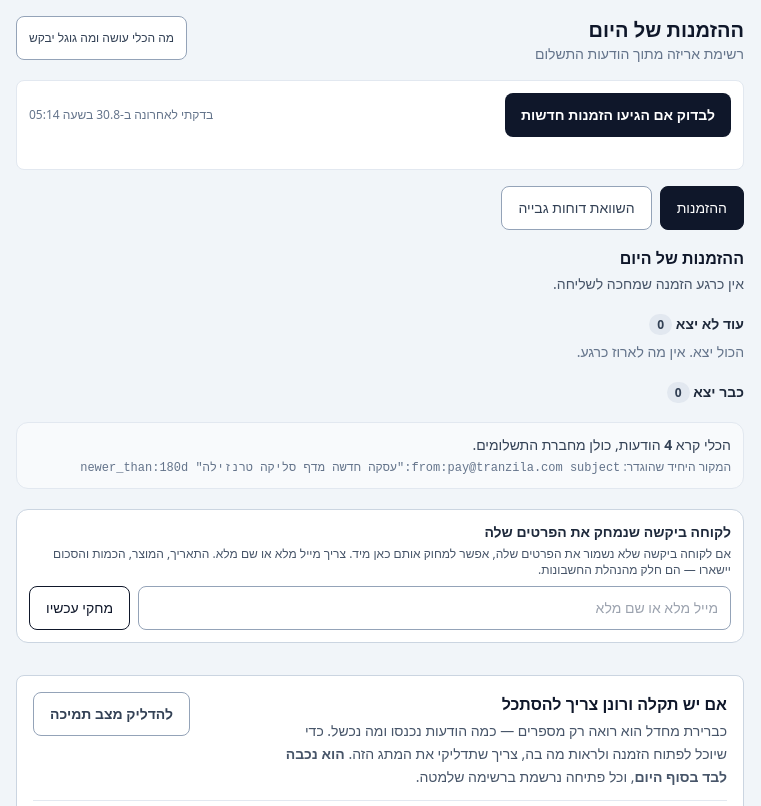
הפקד שקורא ל-refreshNow › לחיצה כפולה בזמן ריצה אינה מייצרת קריאה שנייה
The image size is (761, 806).
Click the button "לבדוק אם הגיעו הזמנות חדשות".
click(618, 115)  # box [505,93,731,137]
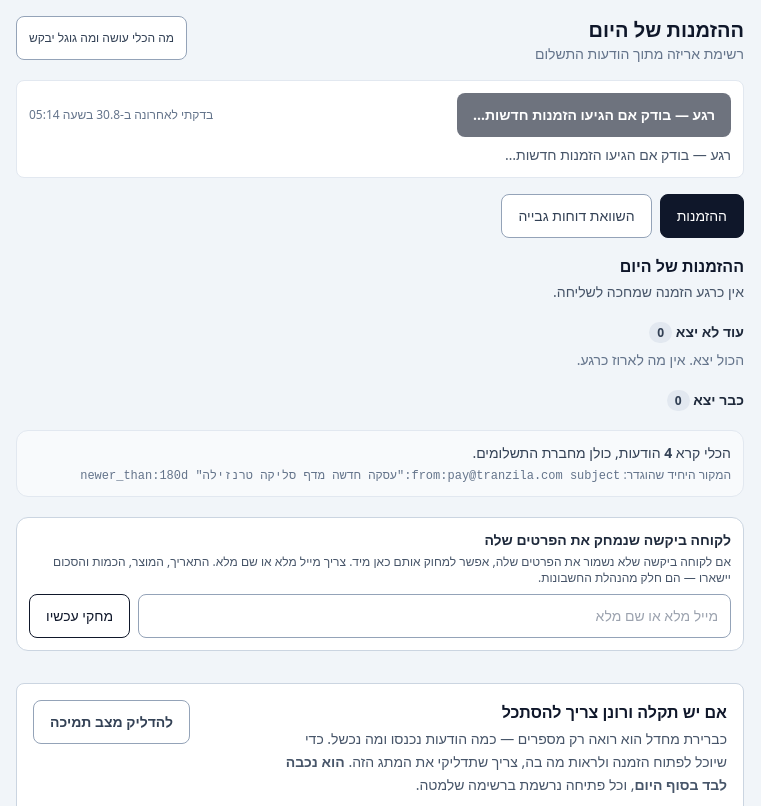
expect the button "רגע — בודק אם הגיעו הזמנות חדשות…" is disabled: met
Click the button "רגע — בודק אם הגיעו הזמנות חדשות…".
click(594, 115)  # box [457,93,731,137]
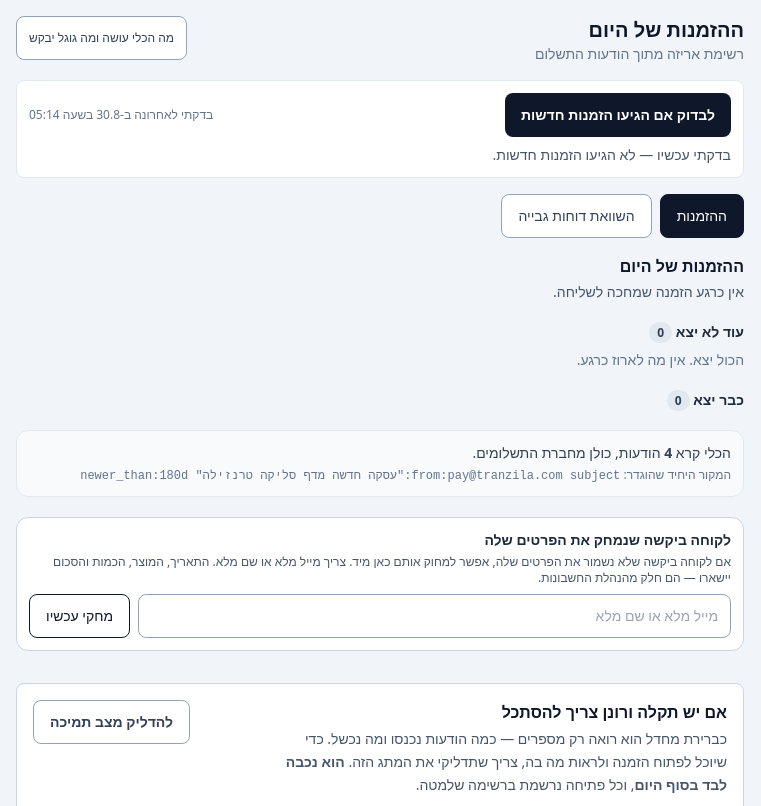
expect the button "לבדוק אם הגיעו הזמנות חדשות" is enabled: met, box [505,93,731,137]
